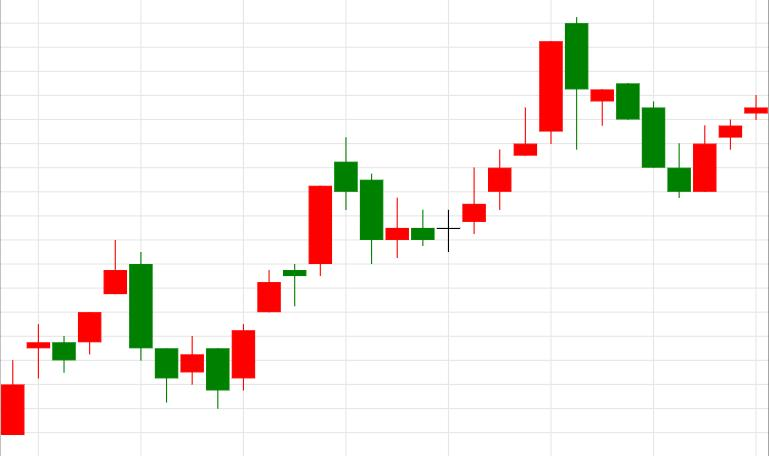bearish_engulfing_fall: (462, 16, 588, 236)
